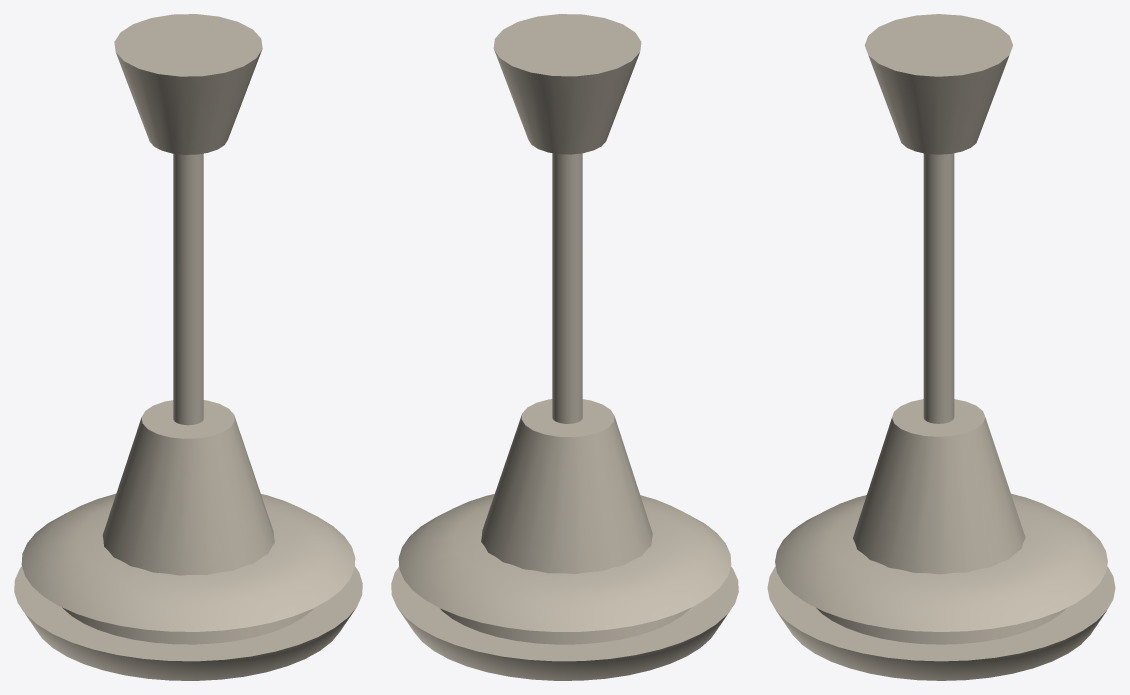
File: fan animation.fbx
3 renders of one model, left to right at view 1: azimuth 30°, elevation 25°; view 2: azimuth 150°, elevation 25°; view 3: azimuth 270°, elevation 25°, orthographic.
Visible parts, largest first — view 1: pCylinder63; view 2: pCylinder63; view 3: pCylinder63.
Part boxes in pixels (box(x1,y1,x2,y2)): pCylinder63: box(14, 14, 362, 680); pCylinder63: box(391, 14, 738, 680); pCylinder63: box(767, 14, 1115, 680).
Size of what is drawn, in the model's own units: 2.97 by 5.65 by 2.97.
